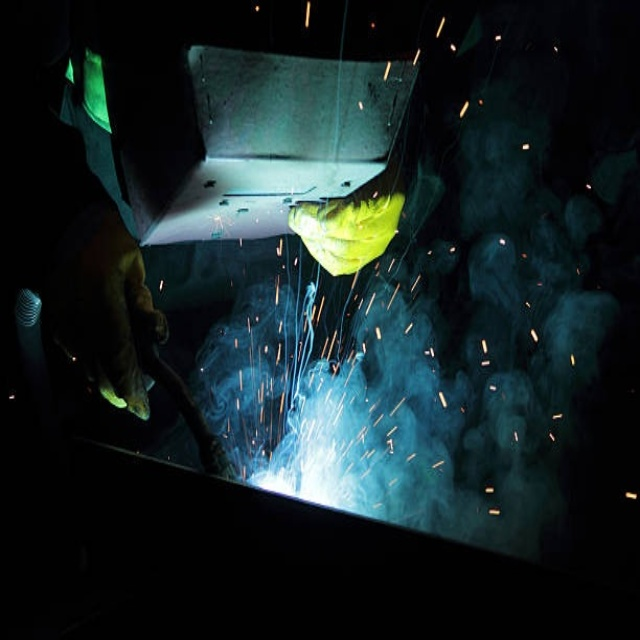Guantes: (86, 180, 173, 431), (283, 177, 414, 292)
